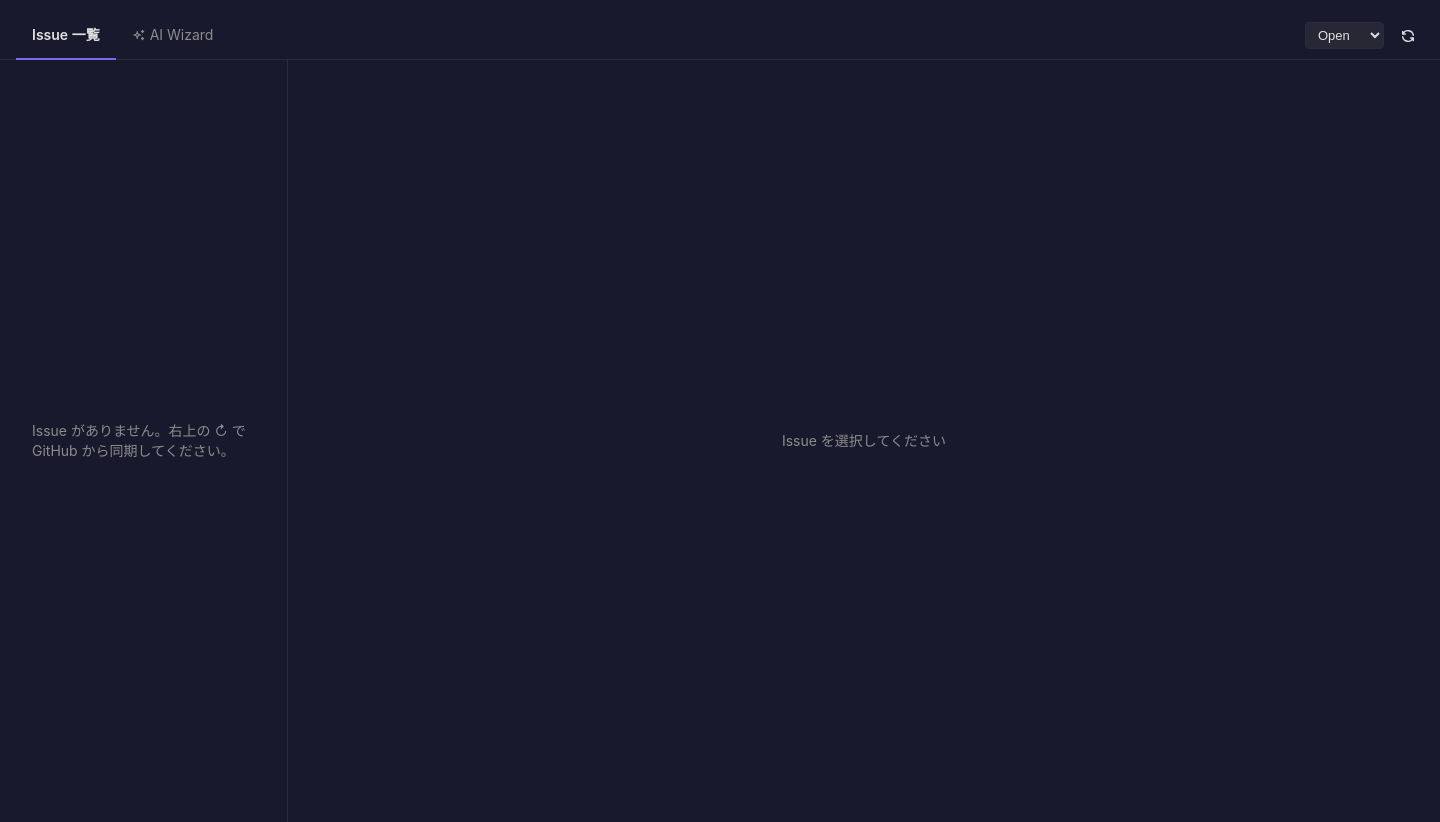
Test: IssuesScreen — AI Wizard タブ › AI Wizard タブに切り替えできる
Click the button "AI Wizard" at (172, 36), box 116,12 -> 229,60
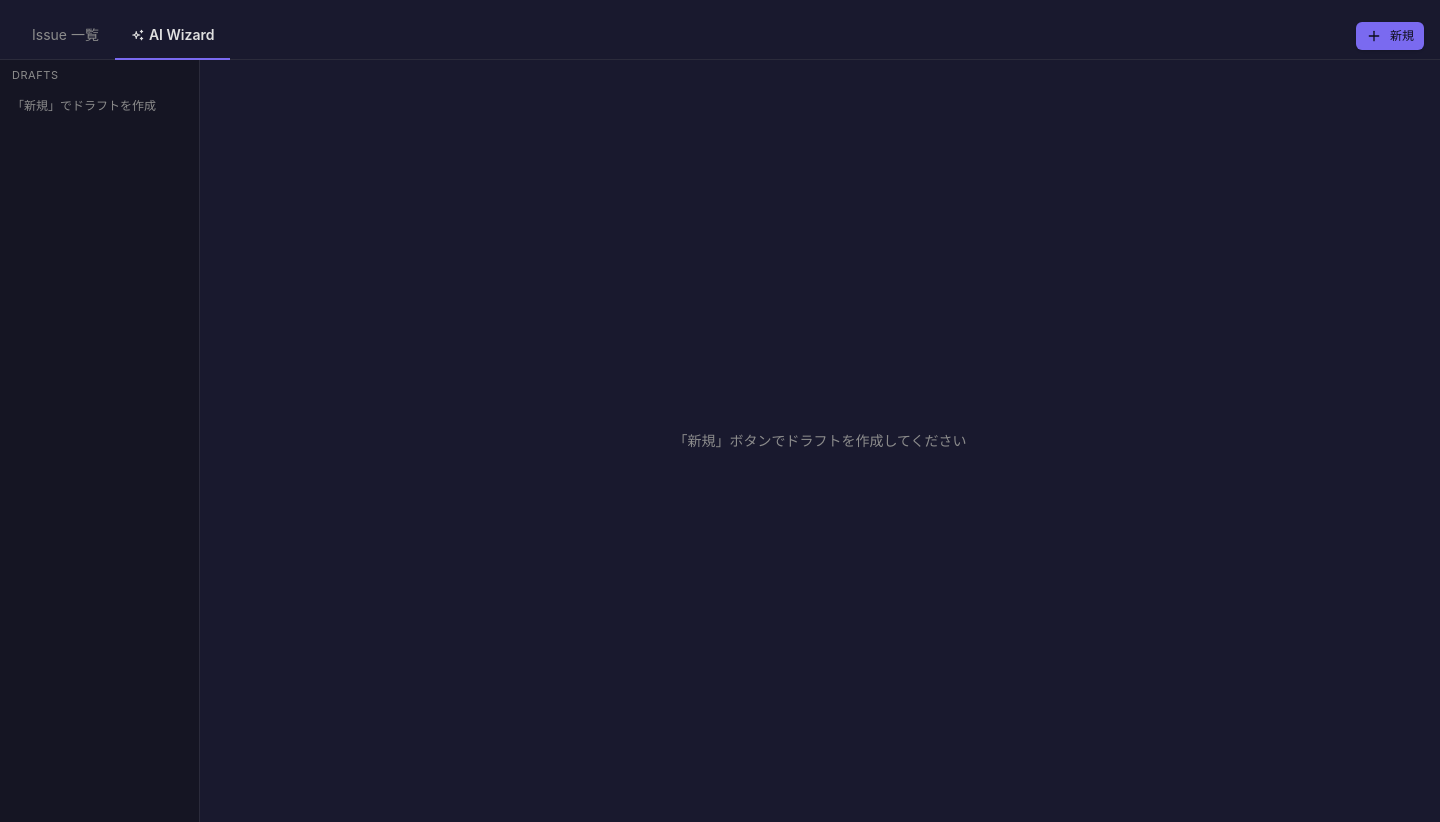
Result: the text "「新規」ボタンでドラフトを作成してください" is shown at 673,432 -> 967,449
